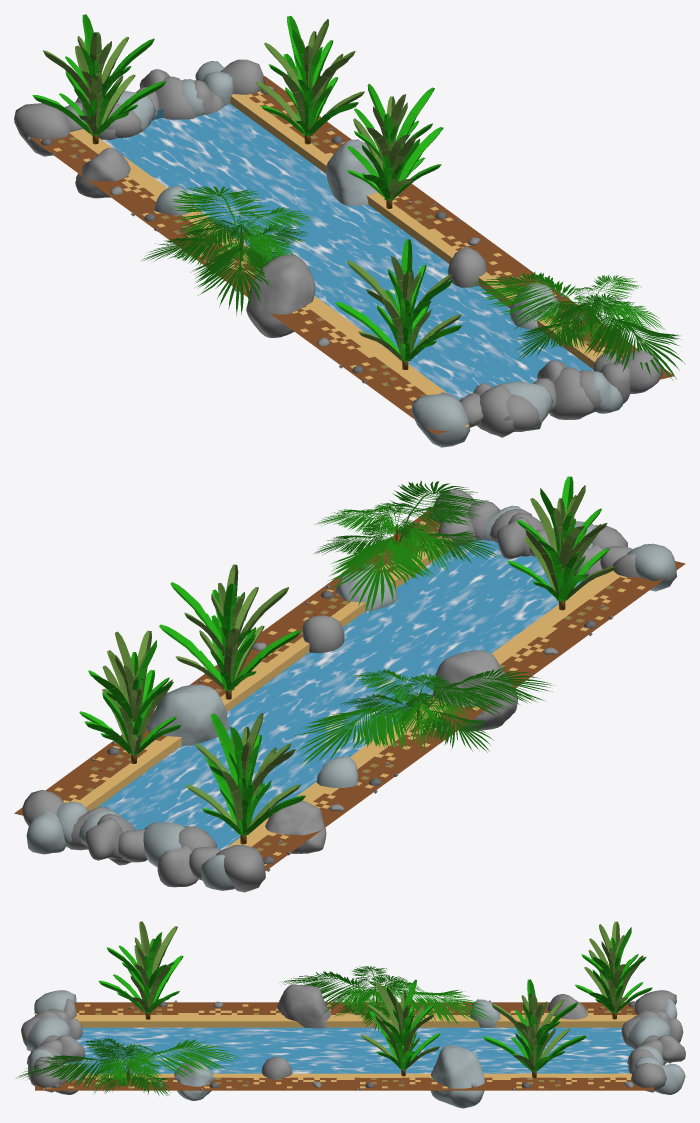
The model's file is rivière (1).fbx.
The picture shows the model from 3 angles, top to bottom: view 1: azimuth 30°, elevation 25°; view 2: azimuth 150°, elevation 25°; view 3: azimuth 270°, elevation 25°; orthographic projection. The views are drawn at different scales.
Parts seen in each view (by area): view 1: buisson, Plane.001, Plane; view 2: buisson, Plane.001, Plane; view 3: buisson, Plane.001, Plane.
Part boxes in pixels (left/top/right/bottom): buisson: left=14, top=14, right=685, bottom=447; Plane.001: left=101, top=103, right=593, bottom=399; Plane: left=27, top=76, right=673, bottom=434; buisson: left=22, top=476, right=676, bottom=892; Plane.001: left=97, top=539, right=589, bottom=849; Plane: left=14, top=508, right=685, bottom=872; buisson: left=16, top=921, right=685, bottom=1108; Plane.001: left=63, top=1027, right=634, bottom=1073; Plane: left=35, top=1000, right=654, bottom=1090.
Bounding box in the file's own units: 390 × 174 × 902.
15 materials, 1 textured.
